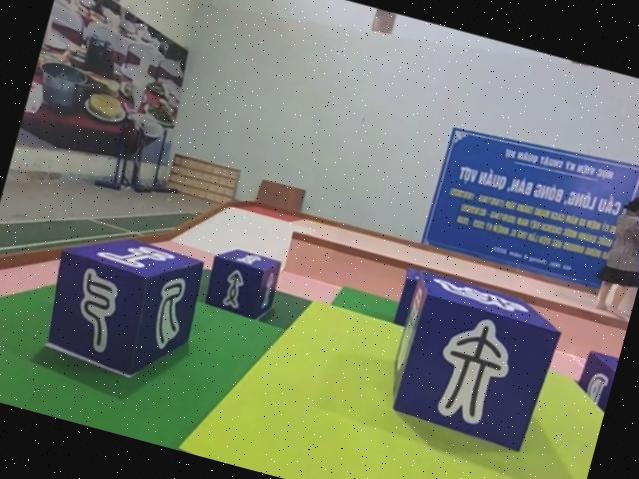R2 Fake Blue: (377, 270, 567, 457), (32, 223, 206, 392), (569, 349, 619, 429)
R2 Real Blue: (201, 244, 284, 325)
